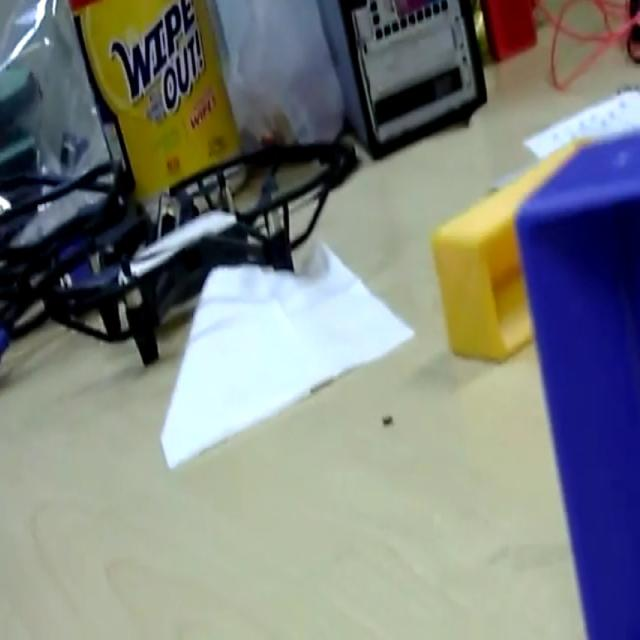blue_block: (512, 127, 638, 636)
yellow_block: (430, 134, 590, 362)
